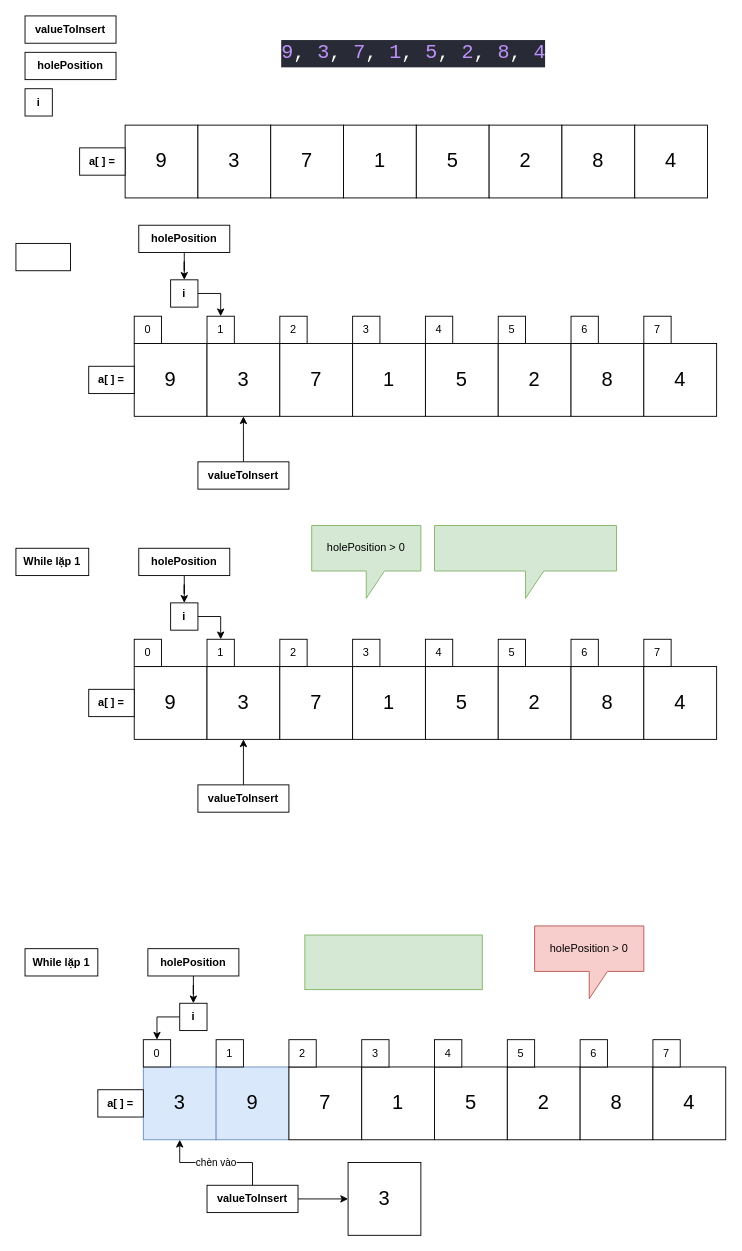
Image size: 742x1251. Some labels were removed from this diagram. Each missing label, with the centre of its shape:
"a[holePosition - 1] > valueToInsert" goes at (525,561).
"a[holePosition] = a[holePosition - 1]; holePosition--;" goes at (393,962).
"For Lặp 1" goes at (43,257).
